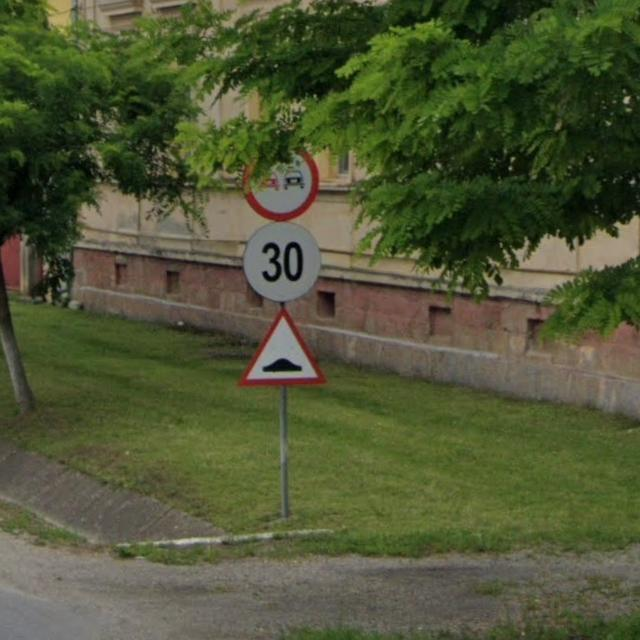forb_overtake: (244, 149, 319, 220)
forb_speed_over_30: (243, 221, 322, 301)
